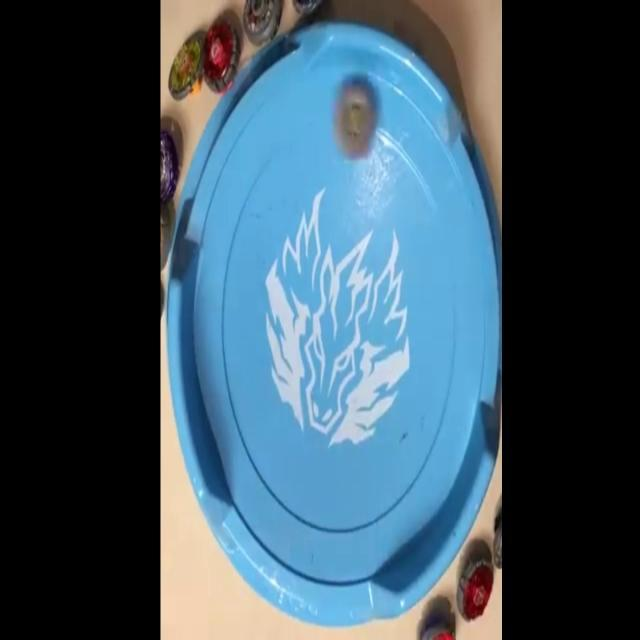Beyblade: (334, 82, 374, 159), (200, 21, 240, 91), (456, 553, 494, 622), (168, 34, 202, 102), (242, 0, 282, 46)
